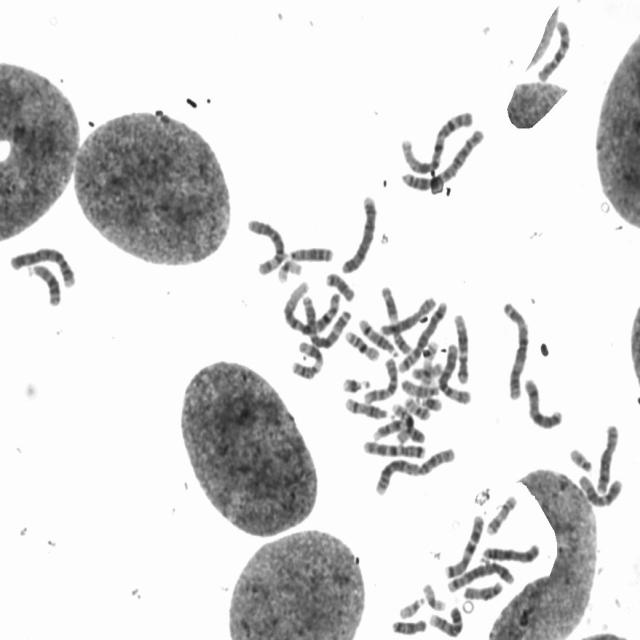A1: (397, 107, 478, 186), (280, 279, 342, 337)
A2: (397, 123, 486, 191), (371, 442, 457, 497)
A3: (499, 296, 531, 401), (300, 290, 354, 349)
B4: (338, 190, 379, 275), (8, 242, 78, 289)
B5: (396, 297, 449, 373), (444, 558, 516, 594)
C10: (535, 16, 573, 84), (360, 353, 399, 404)
C11: (378, 281, 412, 356), (287, 336, 326, 381)
C12: (576, 471, 624, 508), (451, 310, 472, 386)
C6: (244, 213, 286, 277), (436, 339, 473, 405)
C7: (442, 510, 486, 580), (359, 436, 426, 460)
C8: (378, 292, 438, 337), (594, 419, 622, 494)
C9: (426, 601, 465, 638), (370, 416, 420, 443)
D13: (27, 259, 62, 307), (286, 242, 335, 264)
D14: (356, 313, 401, 359), (342, 393, 390, 420)
D15: (461, 577, 505, 601), (398, 374, 443, 397)
E16: (342, 326, 381, 362), (389, 400, 416, 445)
E17: (484, 491, 518, 536), (419, 337, 439, 386)
E18: (323, 268, 357, 303), (389, 615, 429, 635)
F19: (419, 579, 448, 612), (274, 256, 304, 284)
F20: (402, 392, 432, 421), (408, 358, 444, 382)
G21: (339, 372, 372, 394), (419, 392, 444, 412)
G22: (396, 593, 426, 620), (567, 444, 594, 473)
X: (521, 374, 565, 431), (478, 539, 542, 565)
